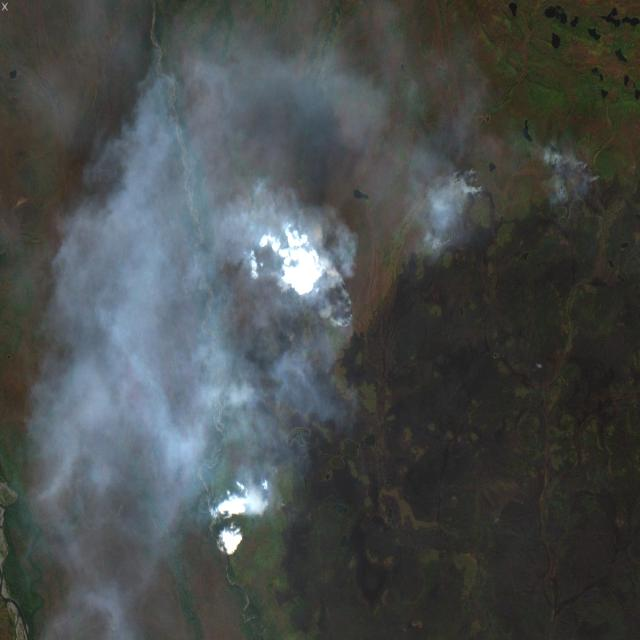fire: (273, 226, 357, 365), (532, 137, 608, 221), (428, 159, 498, 249), (212, 470, 290, 542), (230, 379, 272, 437)
